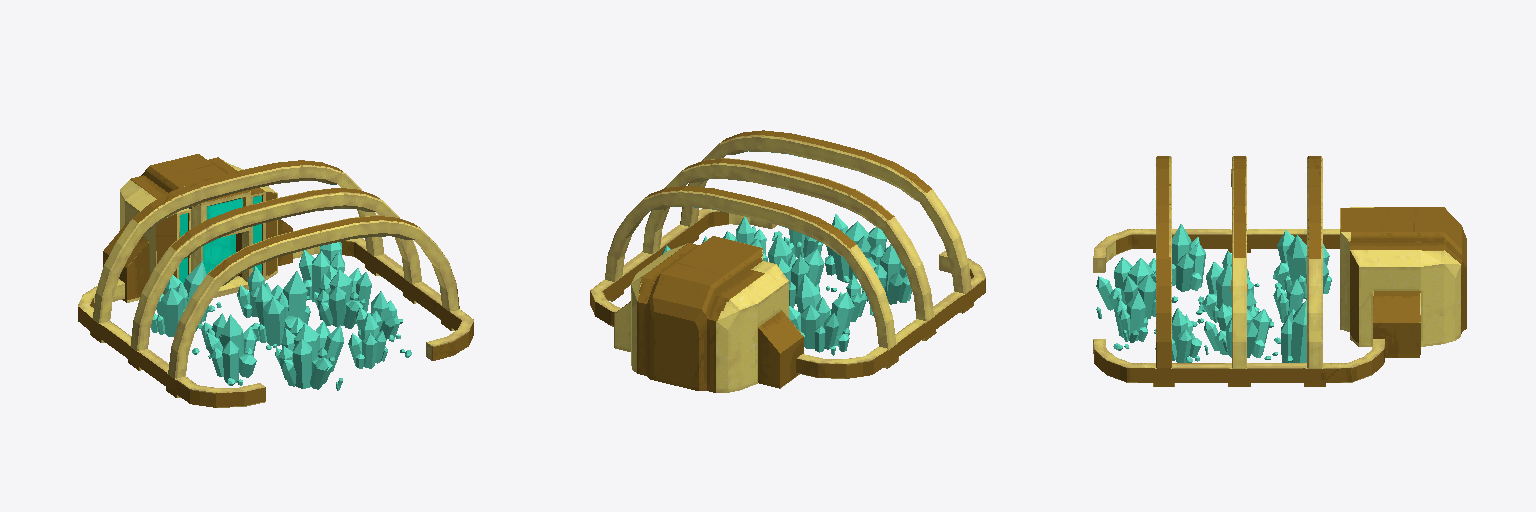
The picture shows the model from 3 angles: view 1: azimuth 30°, elevation 25°; view 2: azimuth 150°, elevation 25°; view 3: azimuth 270°, elevation 25°; orthographic projection.
Visible parts, largest first — view 1: drorania_quarry; view 2: drorania_quarry; view 3: drorania_quarry.
Boxes of the visible parts, x1=… form: drorania_quarry: x1=78, y1=154, x2=473, y2=407; drorania_quarry: x1=590, y1=130, x2=985, y2=392; drorania_quarry: x1=1093, y1=156, x2=1466, y2=386.
Size of the model in its own units: 272 by 126 by 308.
Materials: 1 (1 with a texture image).